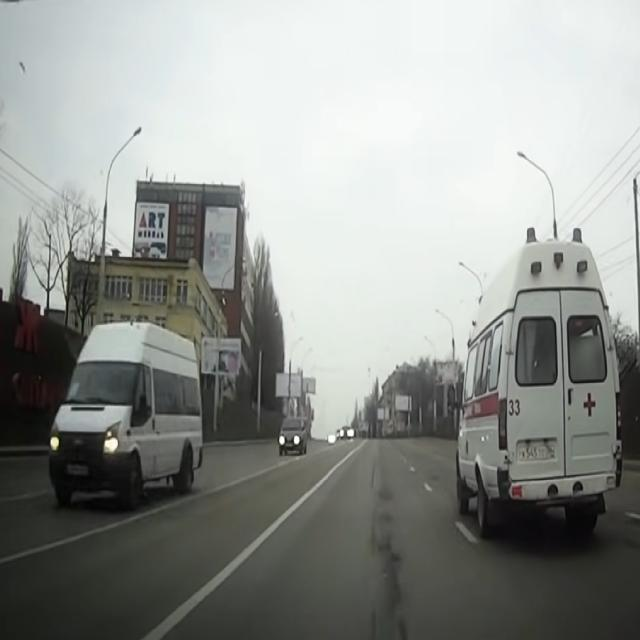ambulance: (455, 227, 625, 545)
non emergency car: (49, 320, 204, 505), (280, 416, 308, 457)
